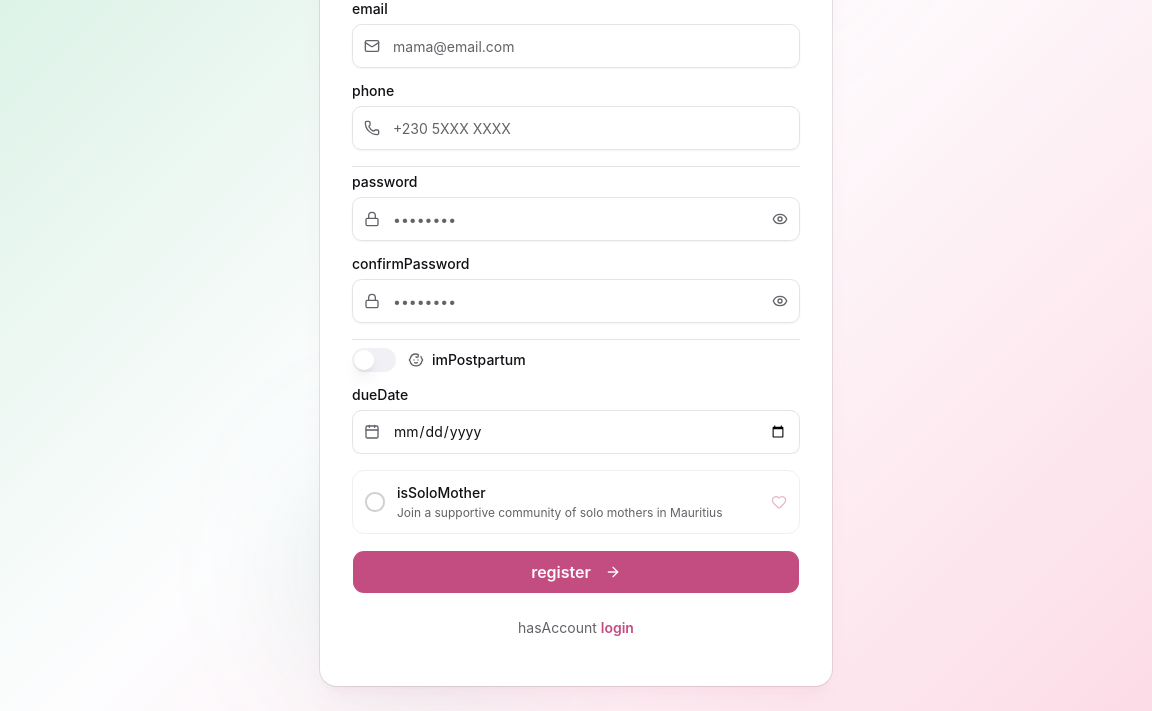
Test: RegisterPage › toggles between pregnancy (due date) and postpartum (baby DOB) sections
This screenshot has width=1152, height=711.
(page scrolled)
Check: the text "dueDate" is shown, box [352,388,408,403]
# Click to switch to postpartum mode
What coordinates should you click on to do the following:
click the switch
I would click on:
 (374, 360)
Its box is [352,348,396,372].
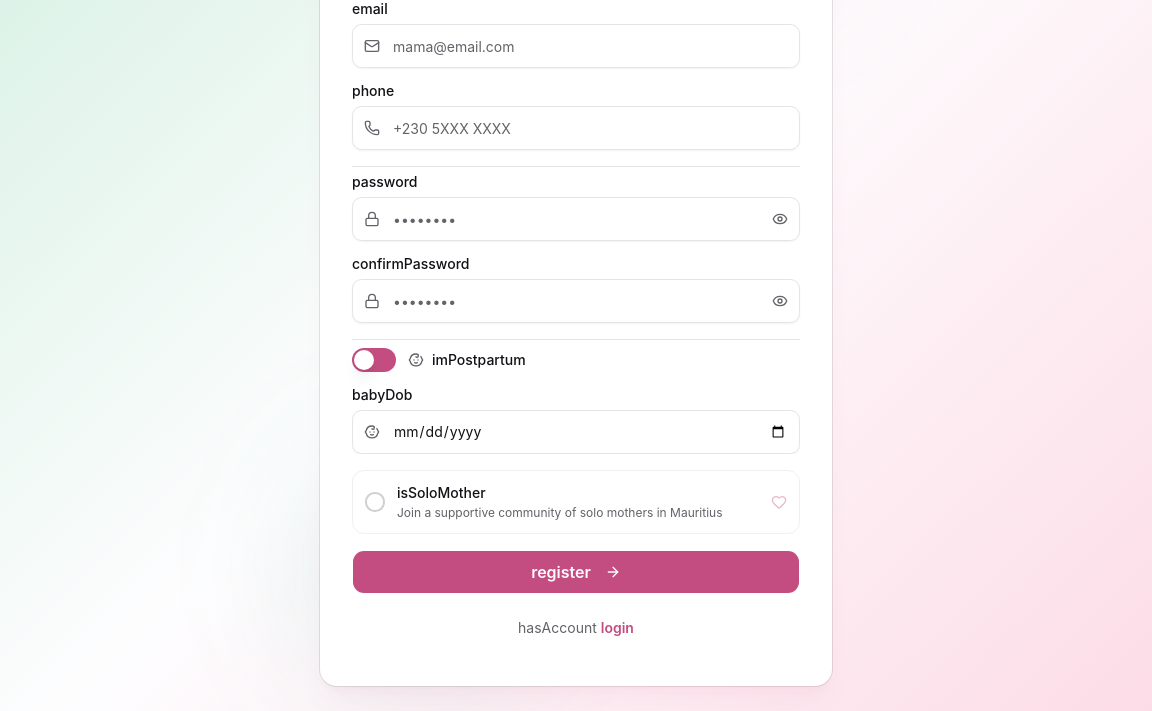
Check: the text "babyDob" is shown, box [352,388,412,403]
